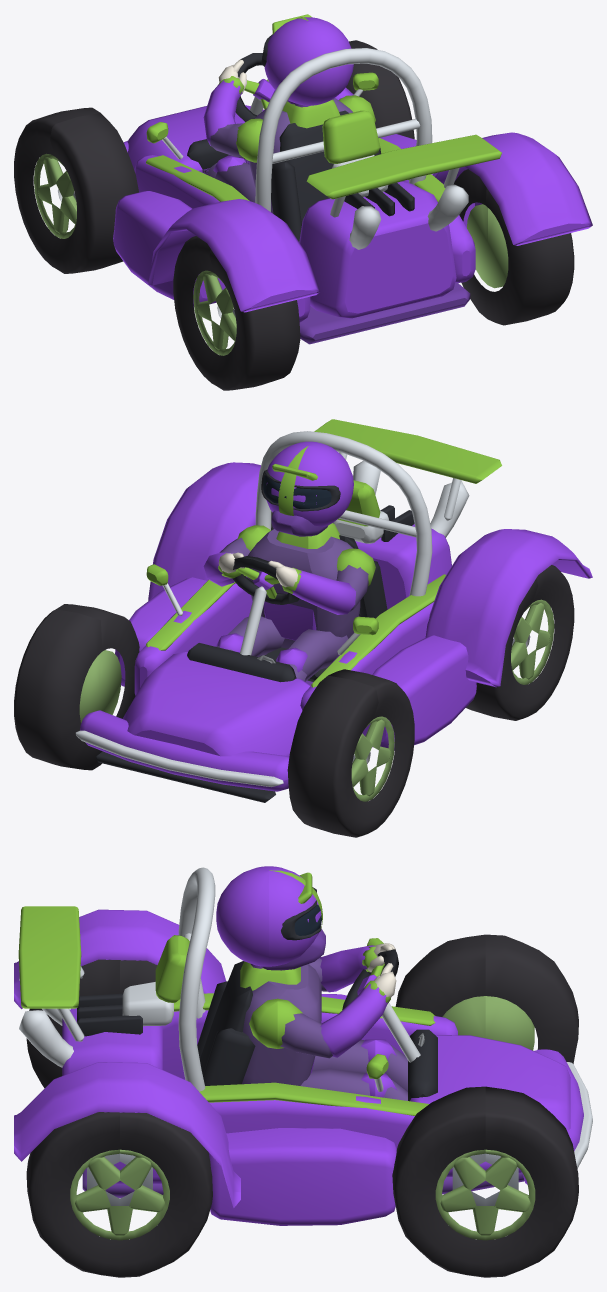
File: kart_5.glb
3 renders of one model, top to bottom at view 1: azimuth 30°, elevation 25°; view 2: azimuth 150°, elevation 25°; view 3: azimuth 270°, elevation 25°, orthographic. The views are drawn at different scales.
Visible parts, largest first — view 1: bodyPaint, bodyFenders, WheelFL_tyre, WheelRL_tyre, WheelRR_tyre, bodyChrome, bodyPlastic, driverHelmet, driverArms, driverTorso, WheelFR_tyre, steeringWheel; view 2: bodyPaint, bodyFenders, WheelFL_tyre, WheelFR_tyre, bodyChrome, driverTorso, WheelRL_tyre, driverHelmet, bodyPlastic, driverArms, steeringWheel, driverVisor; view 3: bodyPaint, WheelFR_tyre, WheelRR_tyre, bodyFenders, WheelFL_tyre, bodyChrome, driverTorso, bodyPlastic, driverHelmet, driverArms, WheelRL_tyre, steeringWheel (+1 smaller).
Boxes of the visible parts, <box> form: bodyPaint: <box>113,72,501,322</box>; bodyFenders: <box>148,132,592,312</box>; WheelFL_tyre: <box>14,107,138,273</box>; WheelRL_tyre: <box>173,236,300,390</box>; WheelRR_tyre: <box>453,169,574,325</box>; bodyChrome: <box>162,48,468,249</box>; bodyPlastic: <box>187,110,470,344</box>; driverHelmet: <box>261,14,353,105</box>; driverArms: <box>203,59,375,162</box>; driverTorso: <box>207,98,352,213</box>; WheelFR_tyre: <box>346,40,414,139</box>; steeringWheel: <box>235,53,275,121</box>; bodyPaint: <box>80,419,501,791</box>; bodyFenders: <box>148,462,592,687</box>; WheelFL_tyre: <box>287,669,414,837</box>; WheelFR_tyre: <box>14,604,139,770</box>; bodyChrome: <box>75,431,469,786</box>; driverTorso: <box>216,523,360,681</box>; WheelRL_tyre: <box>466,565,574,720</box>; driverHelmet: <box>261,441,353,536</box>; bodyPlastic: <box>96,505,414,802</box>; driverArms: <box>203,525,375,614</box>; steeringWheel: <box>232,556,299,604</box>; driverVisor: <box>263,475,331,508</box>; bodyPaint: <box>18,906,583,1225</box>; WheelFR_tyre: <box>392,1086,578,1277</box>; WheelRR_tyre: <box>26,1112,212,1277</box>; bodyFenders: <box>14,909,240,1208</box>; WheelFL_tyre: <box>395,934,578,1063</box>; bodyChrome: <box>19,867,592,1168</box>; driverTorso: <box>240,961,407,1100</box>; bodyPlastic: <box>77,961,524,1198</box>; driverHelmet: <box>216,866,325,970</box>; driverArms: <box>249,943,396,1058</box>; WheelRL_tyre: <box>26,959,157,1088</box>; steeringWheel: <box>342,949,398,1009</box>.
Bounding box in the file's own units: 1.86 × 1.43 × 2.31.
